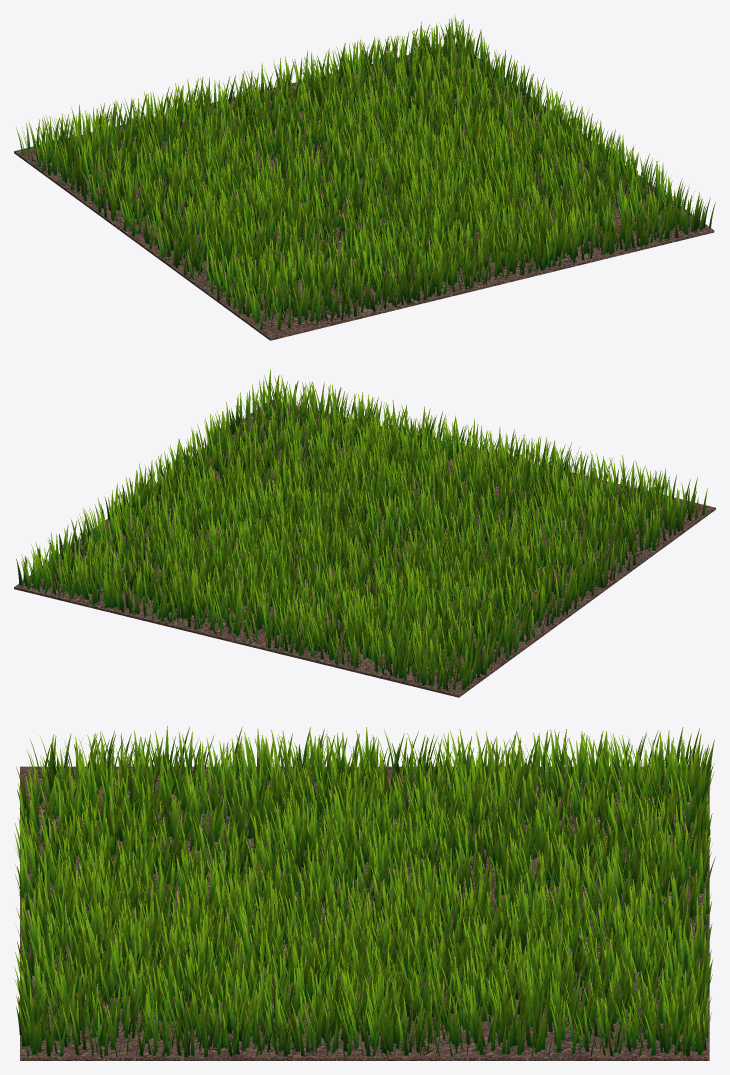
Rendered from patch_of_grass.glb.
3 views of the same model, one above another, from view 1: azimuth 30°, elevation 25°; view 2: azimuth 150°, elevation 25°; view 3: azimuth 270°, elevation 25° (orthographic). The views are drawn at different scales.
Parts seen in each view (by area): view 1: Plane.10002; view 2: Plane.10002; view 3: Plane.10002.
Part boxes in pixels (left/top/right/bottom): Plane.10002: left=14, top=43, right=714, bottom=340; Plane.10002: left=14, top=399, right=715, bottom=697; Plane.10002: left=20, top=766, right=709, bottom=1060.
Bounding box in the file's own units: 204 × 13.57 × 204.
2 materials, 2 textured.
